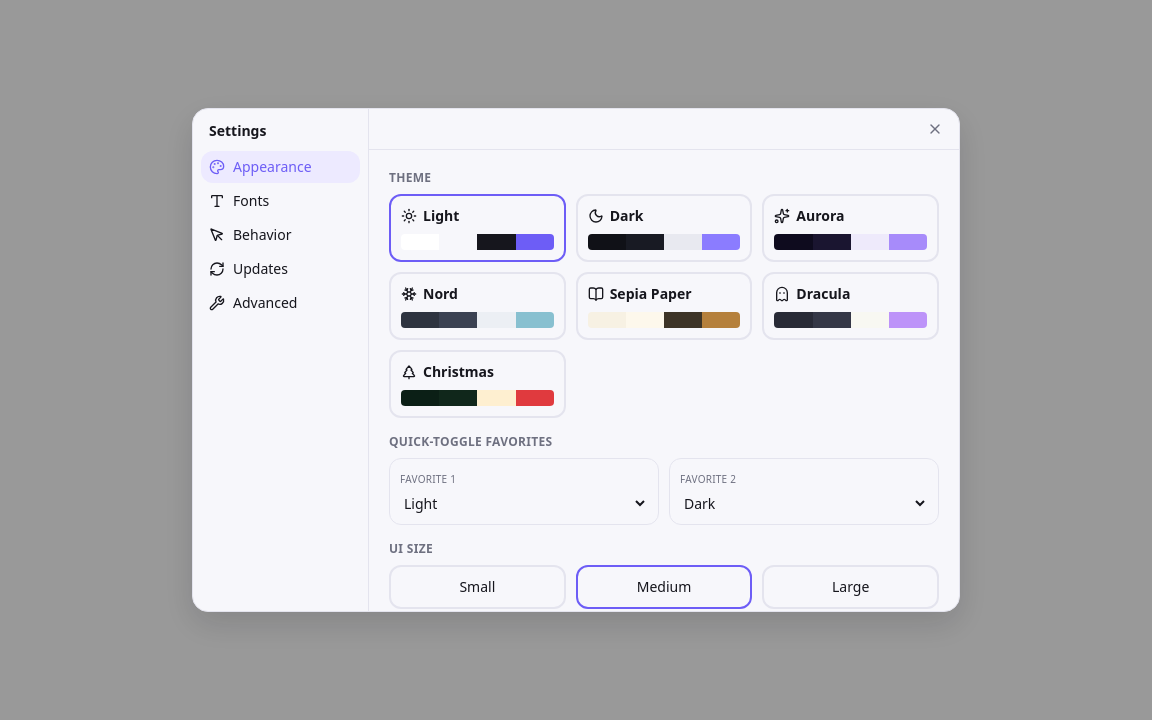
SettingsModal › font split toggle reveals separate selects
Click the button "Fonts" at (280, 201), box [201,185,360,217]
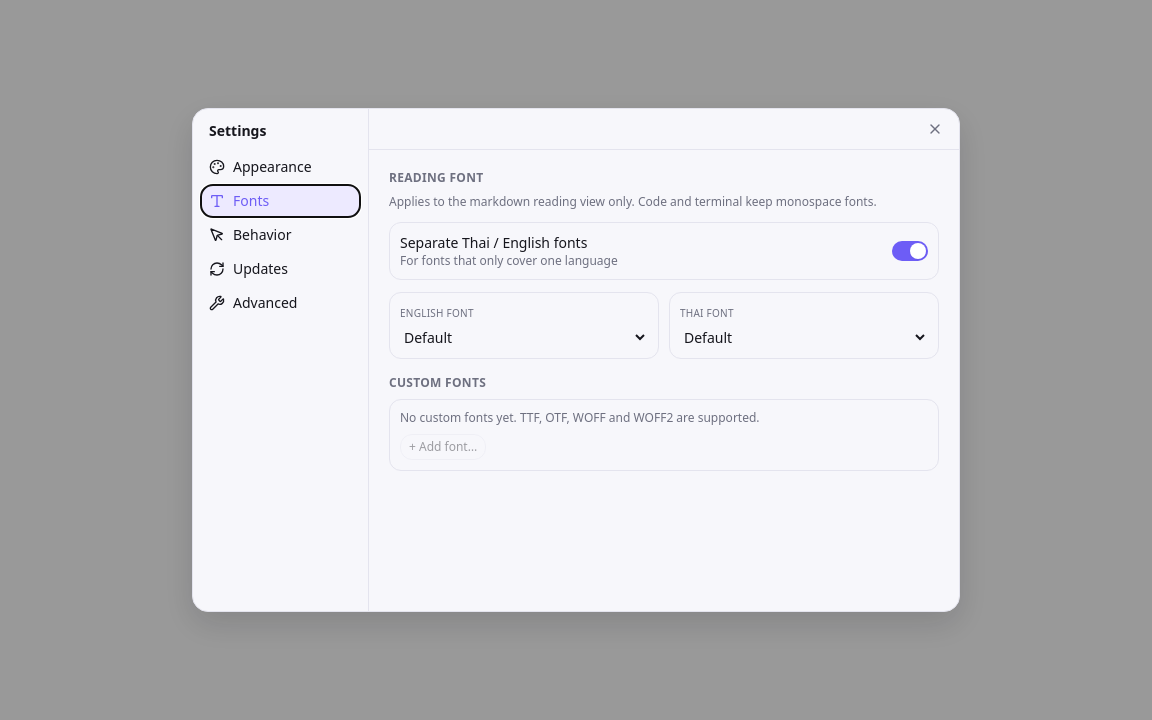
Expected: the dropdown labelled "English font" is shown, [400,327,648,348]
Expected: the dropdown labelled "Thai font" is shown, [680,327,928,348]
